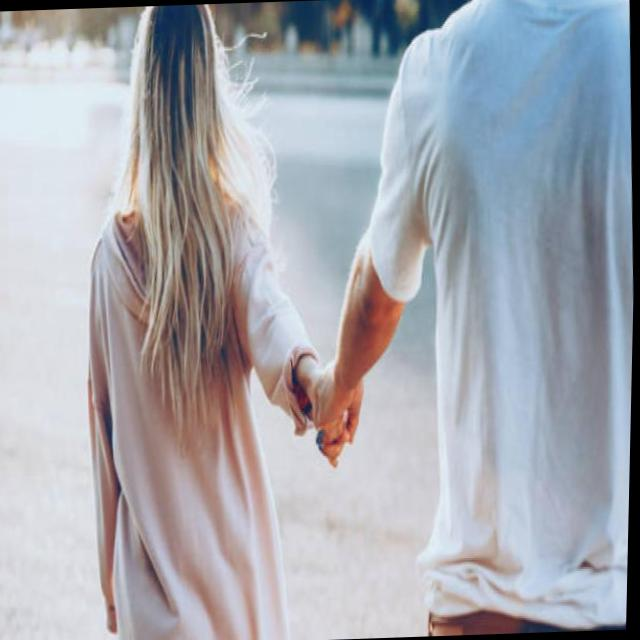no helmet: (88, 2, 264, 219)
